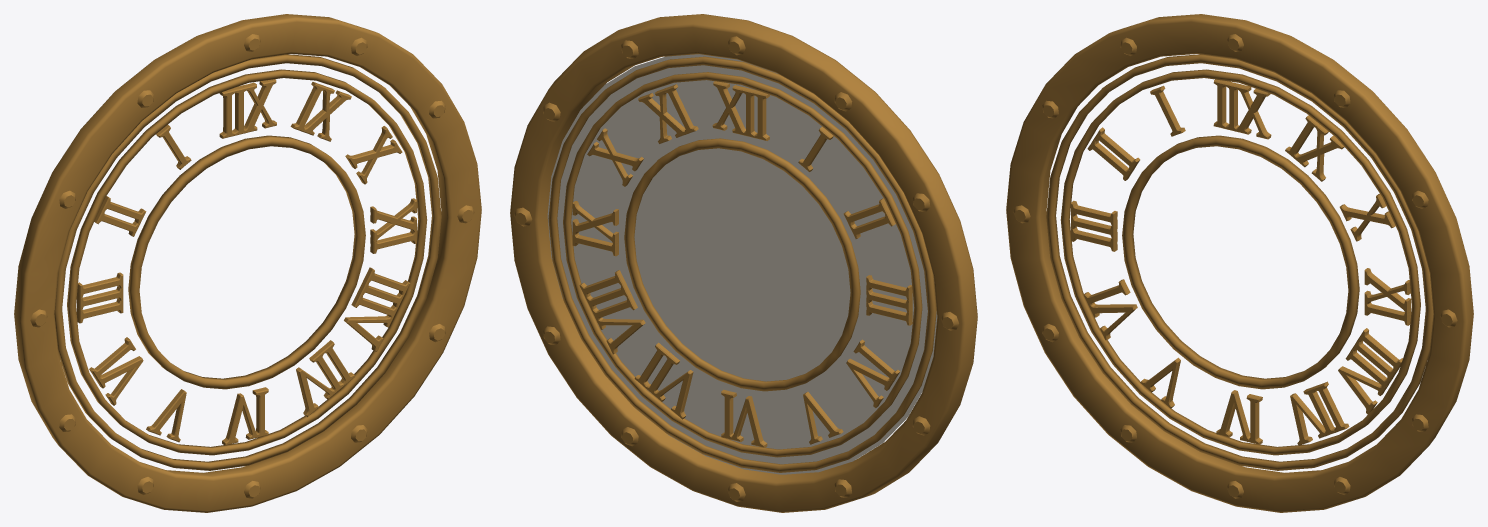
The model's file is wall_clock_face.glb.
3 renders of one model, left to right at view 1: azimuth 30°, elevation 25°; view 2: azimuth 150°, elevation 25°; view 3: azimuth 330°, elevation 25°, orthographic.
Parts seen in each view (by area): view 1: Frame, Numbers; view 2: Frame, Numbers; view 3: Frame, Numbers.
Boxes of the visible parts, left/top/right/bottom form: Frame: left=14, top=14, right=481, bottom=512; Numbers: left=76, top=79, right=416, bottom=445; Frame: left=510, top=14, right=977, bottom=512; Numbers: left=572, top=81, right=912, bottom=447; Frame: left=1006, top=14, right=1473, bottom=512; Numbers: left=1071, top=79, right=1411, bottom=445.
Size of the model in its own units: 1.18 by 1.18 by 0.0717.
